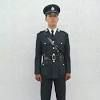uniform: (35, 29, 69, 98)
